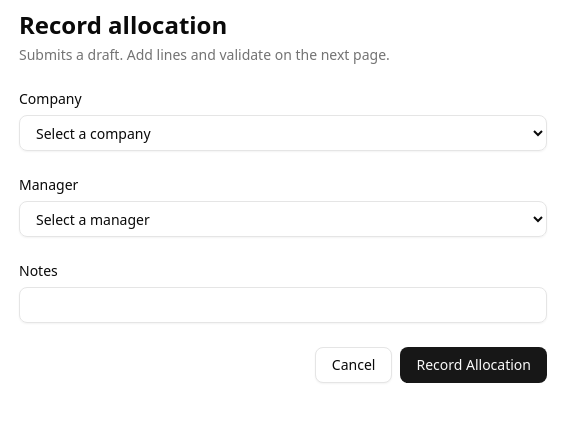
validation › shows a required error for both remaining fields on an empty submit
Click the button "Record Allocation": x=474, y=365 [400, 347, 547, 383]
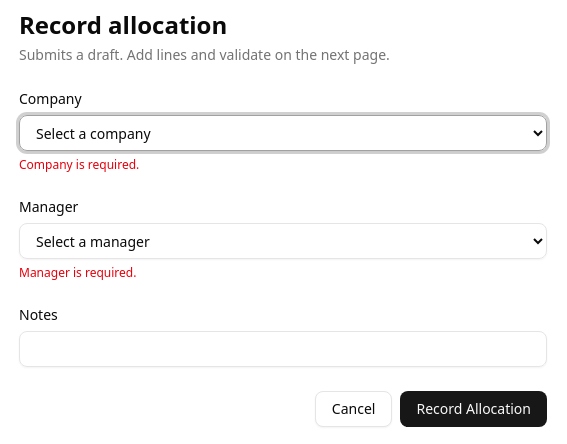
Expected: the text "Company is required." is shown, [19, 156, 139, 173]
Expected: the text "Manager is required." is shown, [19, 264, 136, 281]
